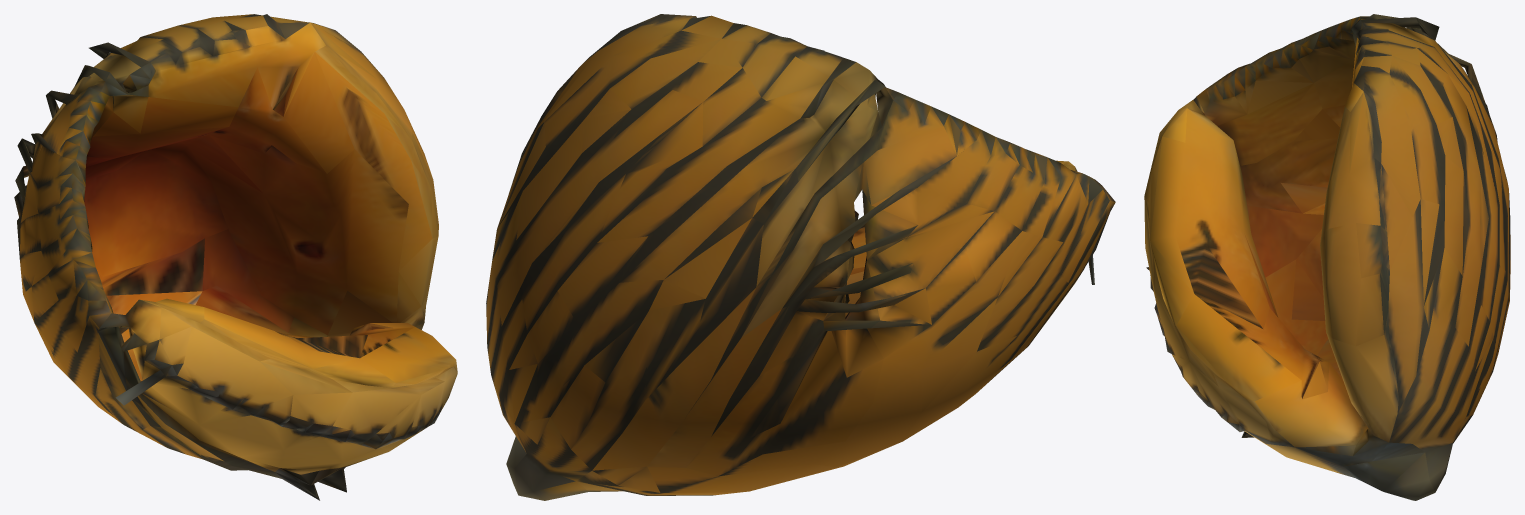
Rendered from CatcherMit.fbx.
3 renders of one model, left to right at view 1: azimuth 30°, elevation 25°; view 2: azimuth 150°, elevation 25°; view 3: azimuth 270°, elevation 25°, orthographic. The views are drawn at different scales.
Visible parts, largest first — view 1: node_0; view 2: node_0; view 3: node_0.
Boxes of the visible parts, x1,y1,x2,y2 form: node_0: (14,14,457,500); node_0: (486,14,1115,500); node_0: (1144,14,1510,500).
Size of the model in its own units: 91.36 by 86.33 by 75.25.
1 material, 1 textured.
